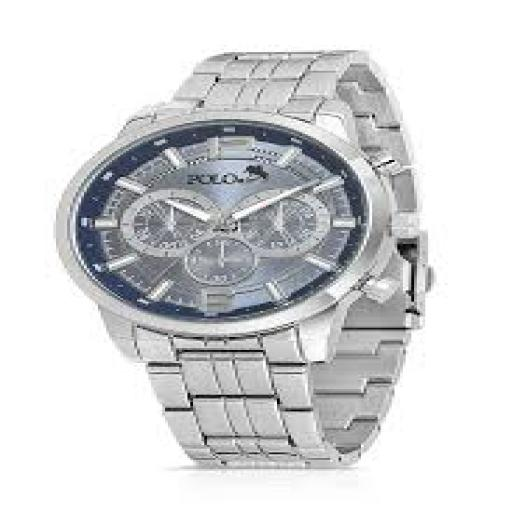KolSaati: (34, 22, 458, 480)
